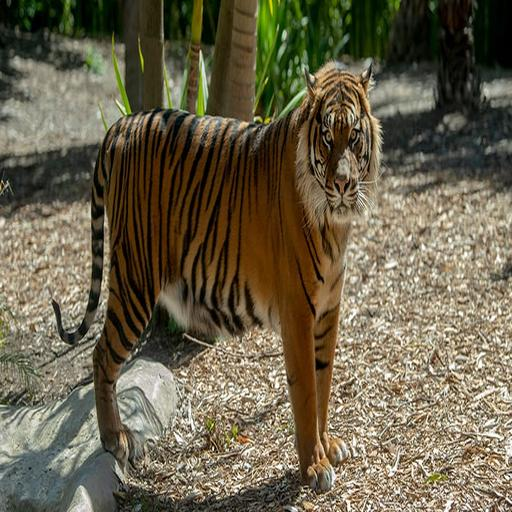Tiger: (41, 59, 389, 512)
